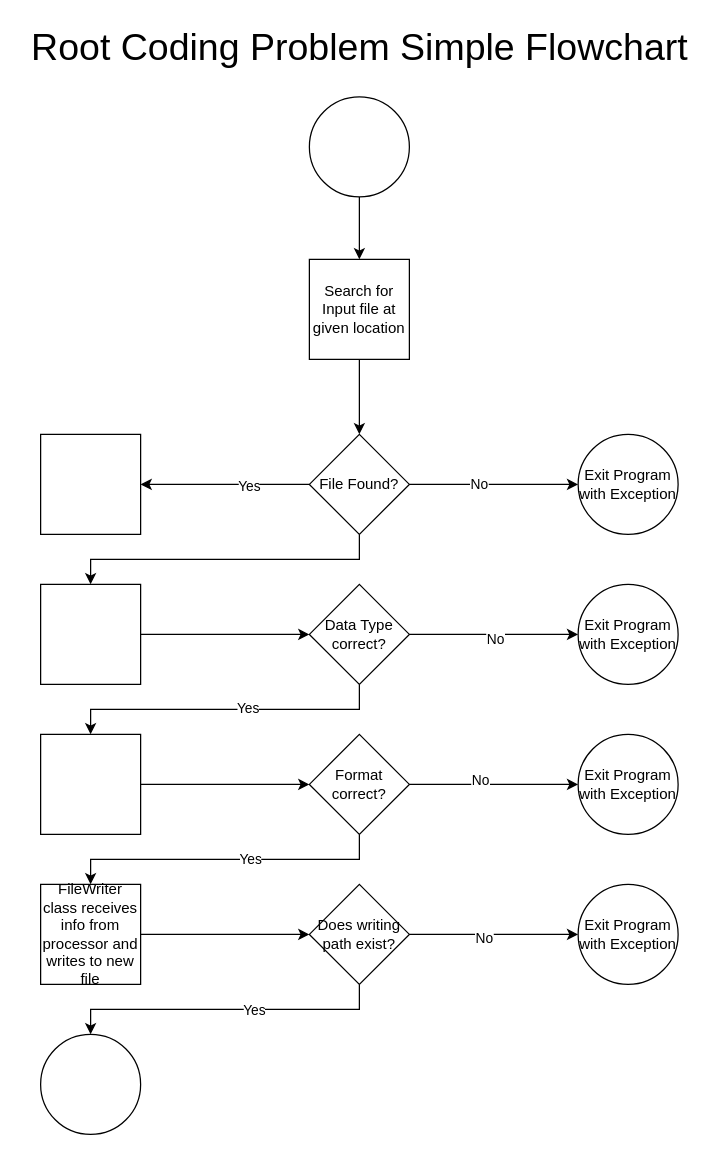
This 718x1156 diagram has some shape labels left out. The centre of each missing label's shape, as x and y in pixels:
"Exit Program gracefully" goes at (90,1083).
"File is picked up by FileReader Class" goes at (90,483).
"FileProcessor class formats data line-by-line" goes at (90,783).
"FileReader class validates type of data and stores into a string" goes at (90,633).
"Program Start" goes at (358,146).
